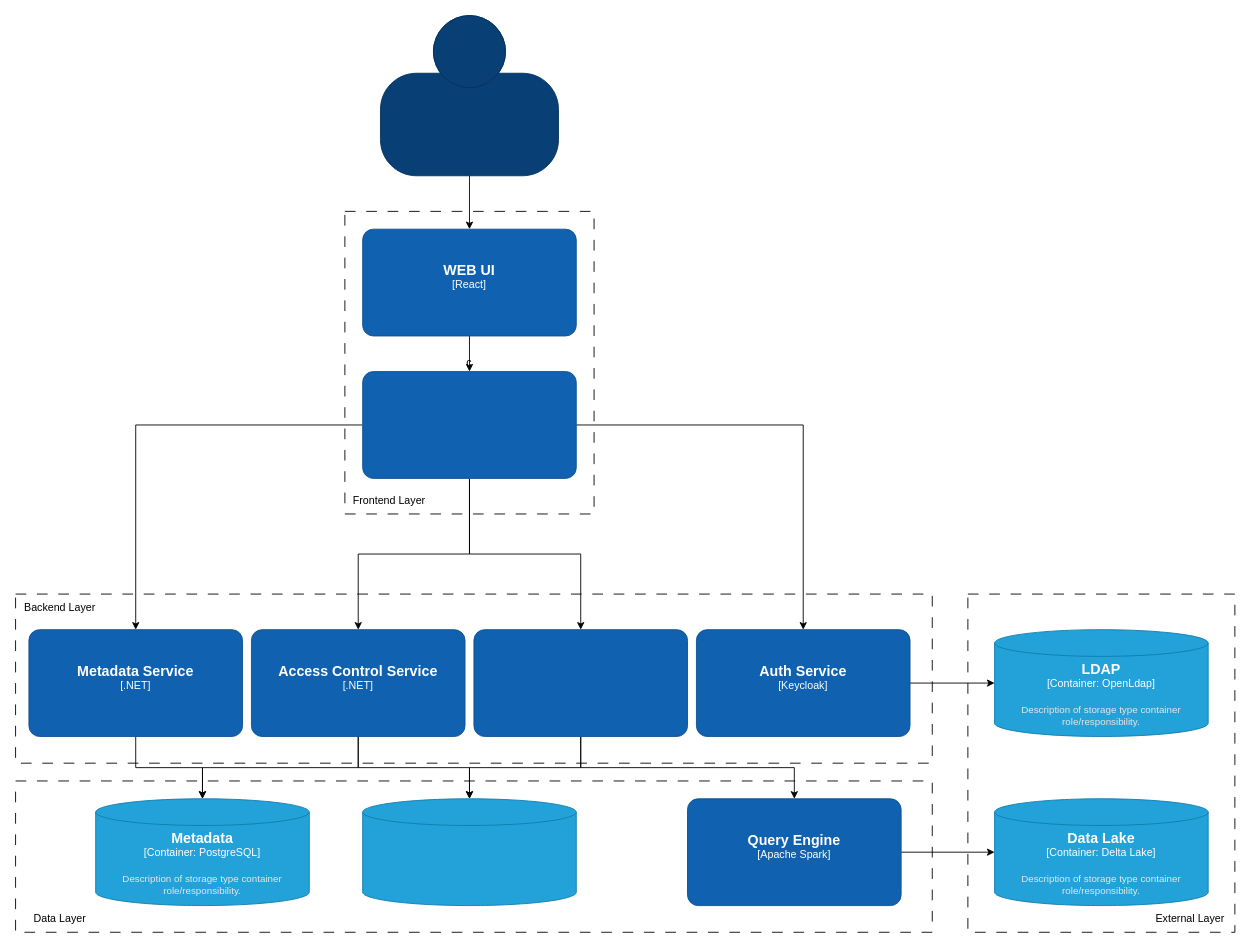
Image size: 1250x948. Some labels were removed from this diagram. The centre of each missing label's shape, as x and y in pixels:
API Gateway [NGINX]: (x=469, y=424)
Cache [Container: Redis Cluster]: (x=469, y=852)
Report Builder Service [.NET]: (x=580, y=682)
Аналитик [Person]: (x=469, y=95)
